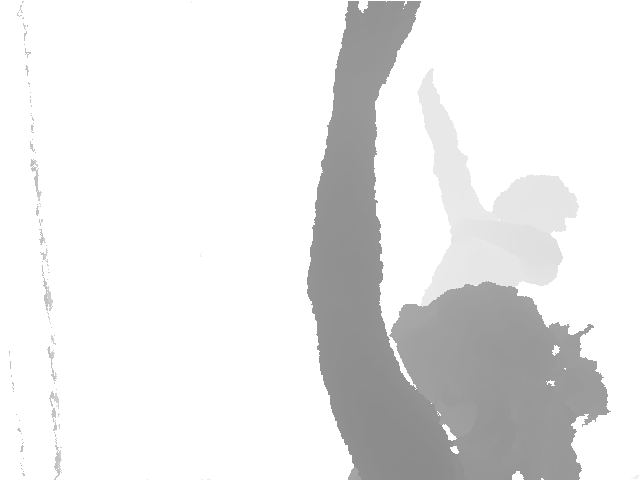hand: (330, 1, 422, 91)
head: (389, 281, 547, 419), (490, 173, 579, 234)
person: (305, 1, 612, 480), (416, 68, 580, 305)
